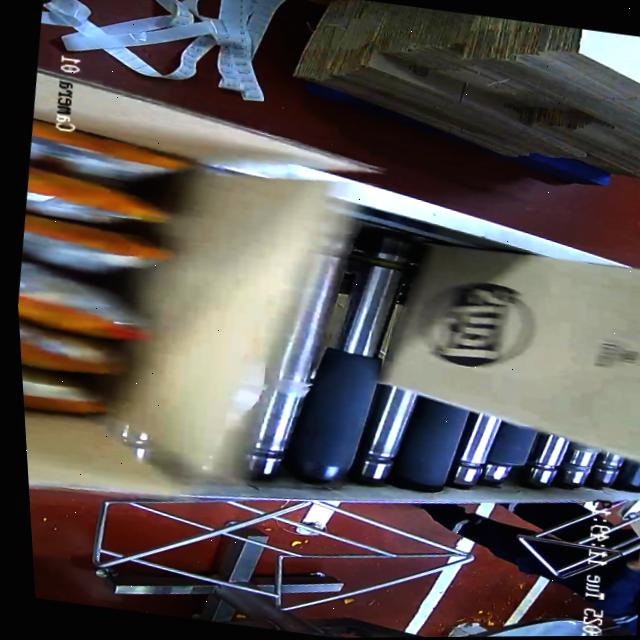FRENCH_CHEESE: (7, 112, 222, 437)
